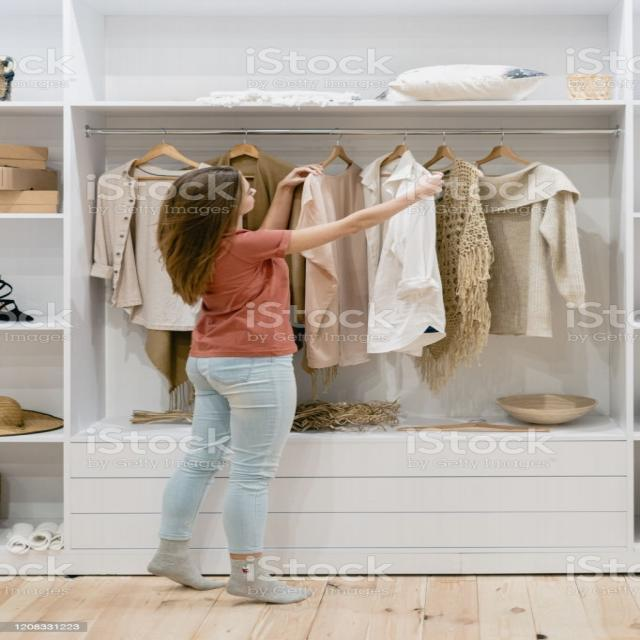walking: (131, 154, 439, 615)
